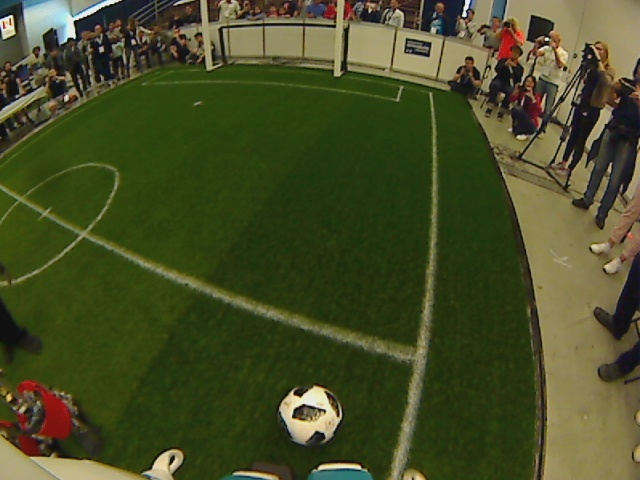ball: (278, 381, 345, 453)
